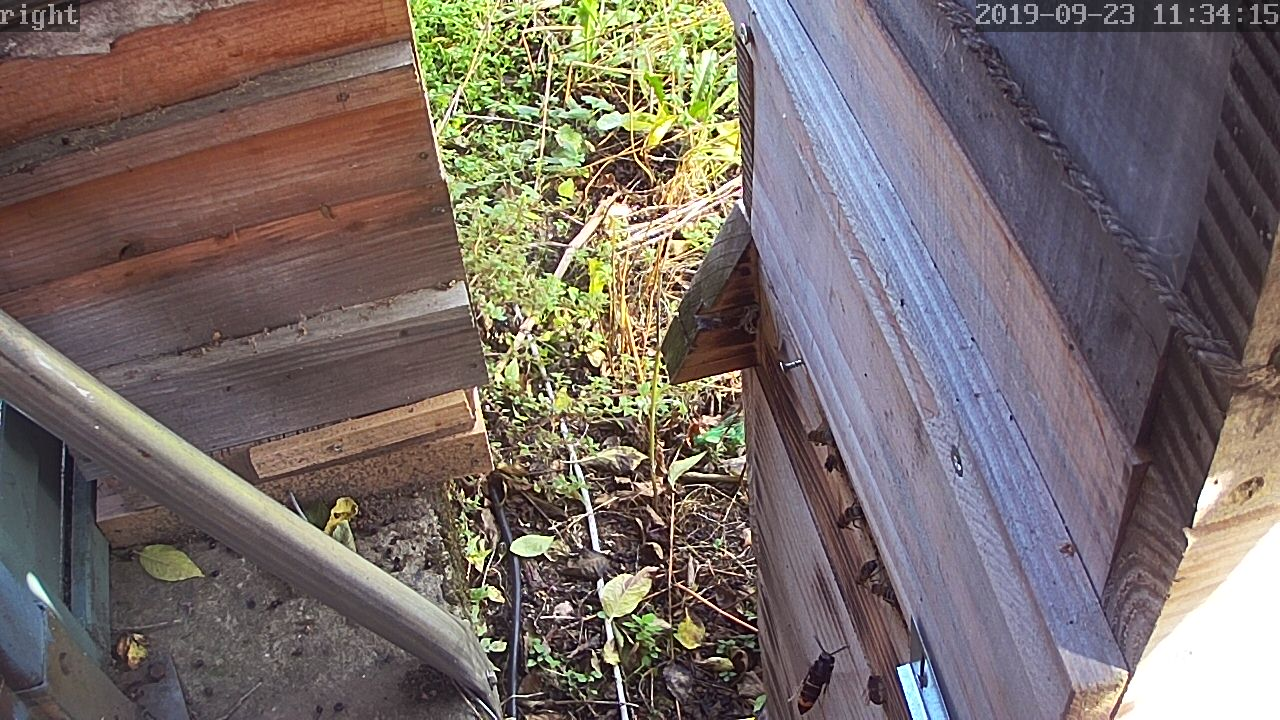bee: (829, 502, 864, 538), (860, 670, 892, 707), (863, 580, 902, 608), (853, 558, 881, 593), (806, 424, 838, 449), (818, 451, 846, 479)
hornet: (786, 640, 845, 716)
